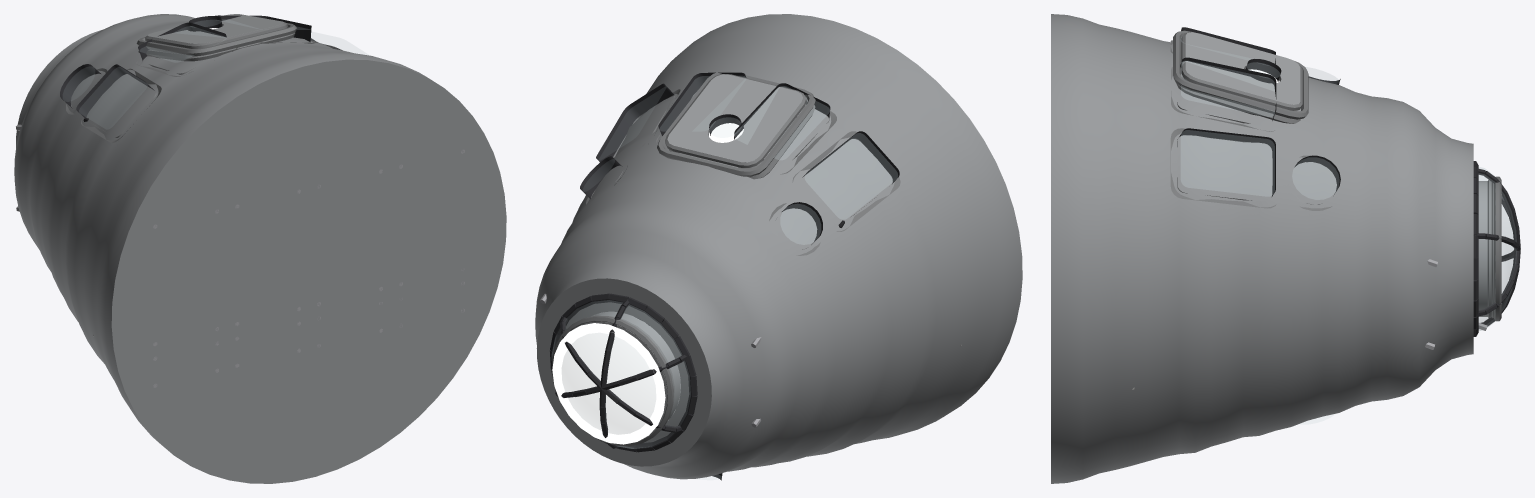
File: dragon.glb
The picture shows the model from 3 angles, left to right: view 1: azimuth 30°, elevation 25°; view 2: azimuth 150°, elevation 25°; view 3: azimuth 270°, elevation 25°; orthographic projection. The views are drawn at different scales.
Parts seen in each view (by area): view 1: shell_cupola, door_inward, glass_panoramic3, hatchframe_inward, frame_panoramic3, shell_panoramic, frame_small3, hatchframe_side, frame_panoramic2, glass_small3, glass_panoramic2, frame_panoramic1; view 2: shell_cupola, glass_cupola, plug_top, door_inward, shell_panoramic, frame_cupola, glass_panoramic3, hatchframe_inward, frame_panoramic0, hatchframe_top, glass_panoramic2, frame_panoramic3 (+10 smaller); view 3: shell_cupola, door_inward, glass_panoramic0, glass_cupola, frame_cupola, docking, hatchframe_inward, shell_panoramic, frame_panoramic0, glass_small2, glass_panoramic1, hatchframe_top (+4 smaller).
Boxes of the visible parts, x1,y1,x2,y2 form: shell_cupola: (14,14,506,483); door_inward: (144,14,287,48); glass_panoramic3: (79,67,147,128); hatchframe_inward: (136,23,296,56); frame_panoramic3: (76,64,161,142); shell_panoramic: (78,41,318,155); frame_small3: (60,64,107,114); hatchframe_side: (138,32,295,61); frame_panoramic2: (136,22,237,76); glass_small3: (63,67,94,101); glass_panoramic2: (140,26,226,61); frame_panoramic1: (215,15,318,43); shell_cupola: (535,14,1022,479); glass_cupola: (552,300,690,448); plug_top: (552,323,665,444); door_inward: (665,74,806,167); shell_panoramic: (537,86,910,466); frame_cupola: (550,293,697,452); glass_panoramic3: (805,133,897,218); hatchframe_inward: (657,71,815,176); frame_panoramic0: (596,83,680,162); hatchframe_top: (551,315,673,446); glass_panoramic2: (735,86,829,159); frame_panoramic3: (792,131,900,231); shell_cupola: (1051,14,1473,483); door_inward: (1181,32,1302,110); glass_panoramic0: (1181,130,1274,195); glass_cupola: (1479,167,1516,330); frame_cupola: (1473,161,1520,336); docking: (1478,180,1493,317); hatchframe_inward: (1173,30,1308,119); shell_panoramic: (1163,41,1275,219); frame_panoramic0: (1170,128,1276,208); glass_small2: (1292,158,1338,199); glass_panoramic1: (1181,61,1274,116); hatchframe_top: (1493,176,1501,321).
Bounding box in the file's own units: 2.35 × 2.35 × 2.35.
